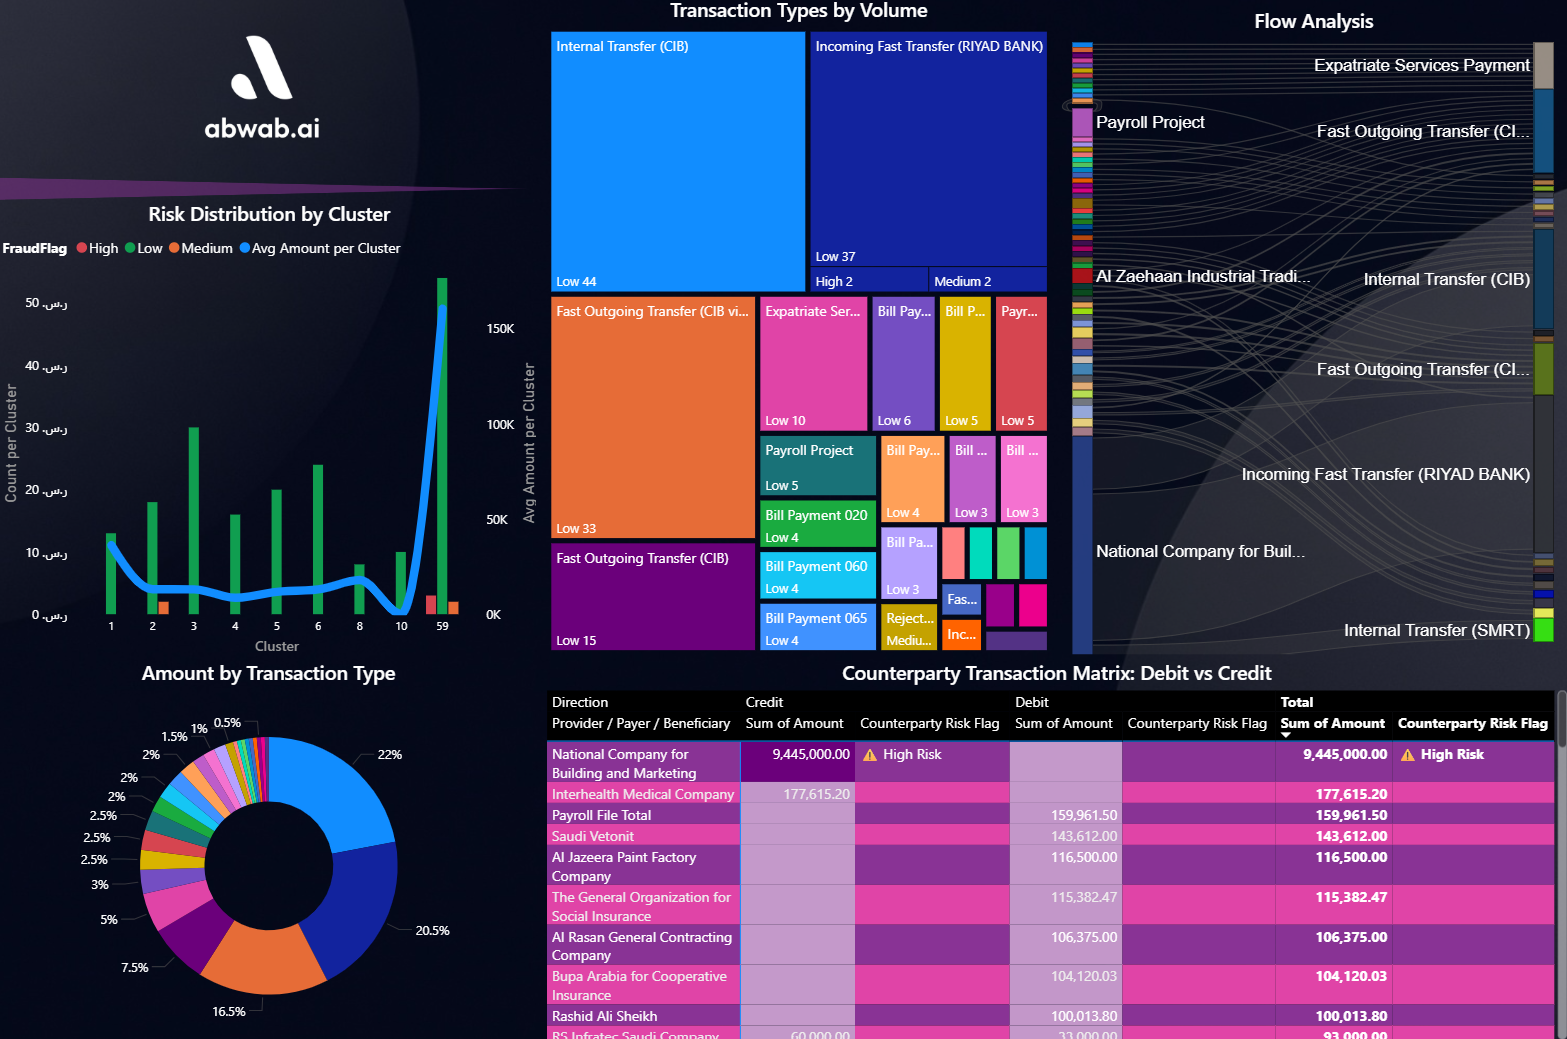

What the dashboard file says about the page in this screenshot:
{"tool":"powerbi","page":{"name":"Counterparty & Cluster Deep Dive","canvas":[1500,1000],"ordinal":2},"visuals":[{"type":"image","box":[0,0,504.3,172.9],"z":0},{"type":"shape","box":[0,172.9,504.3,21.4],"z":1000},{"type":"pivotTable","title":"Counterparty Transaction Matrix: Debit vs Credit","fields":{"Rows":["task.Provider / Payer / Beneficiary"],"Columns":["task.Direction"],"Values":["Sum(task.Amount)","Calendar.Counterparty Risk Flag"]},"box":[518.3,631.7,981.7,368.3],"z":2000},{"type":"treemap","title":"Transaction Types by Volume","fields":{"Group":["task.Transaction Type","task.FraudFlag"],"Values":["CountNonNull(task.Amount)"],"Details":["task.FraudFlag"]},"box":[518.3,0,490,631.7],"z":3000},{"type":"donutChart","title":"Amount by Transaction Type","fields":{"Category":["task.Transaction Type"],"Series":["task.Transaction Type"],"Y":["CountNonNull(task.Transaction Type)"]},"box":[12.9,631.4,491.4,368.6],"z":4000},{"type":"lineClusteredColumnComboChart","title":"Risk Distribution by Cluster","fields":{"Category":["task.Cluster"],"Y":["task.Count per Cluster"],"Y2":["task.Avg Amount per Cluster"],"Series":["task.FraudFlag"]},"box":[0,194.3,518.6,437.1],"z":4001},{"type":"sankey02300D1BE6F5427989F3DE31CCA9E0F32020","title":"Flow Analysis","fields":{"Weight":["Sum(task.Amount)"],"Source":["task.Provider / Payer / Beneficiary"],"Destination":["task.Transaction Type"],"SourceLabels":["Min(task.FraudFlag)"]},"box":[1008.6,10,491.4,621.4],"z":4002}]}

Visuals, with their boxes in screenshot pixels (x1, y1, x2, y2), scaled from the page's 1500x1000 canvas onto the 1567x1039 screenshot:
image: (0,0,527,180)
shape: (0,180,527,202)
"Counterparty Transaction Matrix: Debit vs Credit" pivotTable: (541,656,1566,1038)
"Transaction Types by Volume" treemap: (541,0,1053,656)
"Amount by Transaction Type" donutChart: (13,656,527,1038)
"Risk Distribution by Cluster" lineClusteredColumnComboChart: (0,202,542,656)
"Flow Analysis" sankey02300D1BE6F5427989F3DE31CCA9E0F32020: (1054,10,1566,656)
